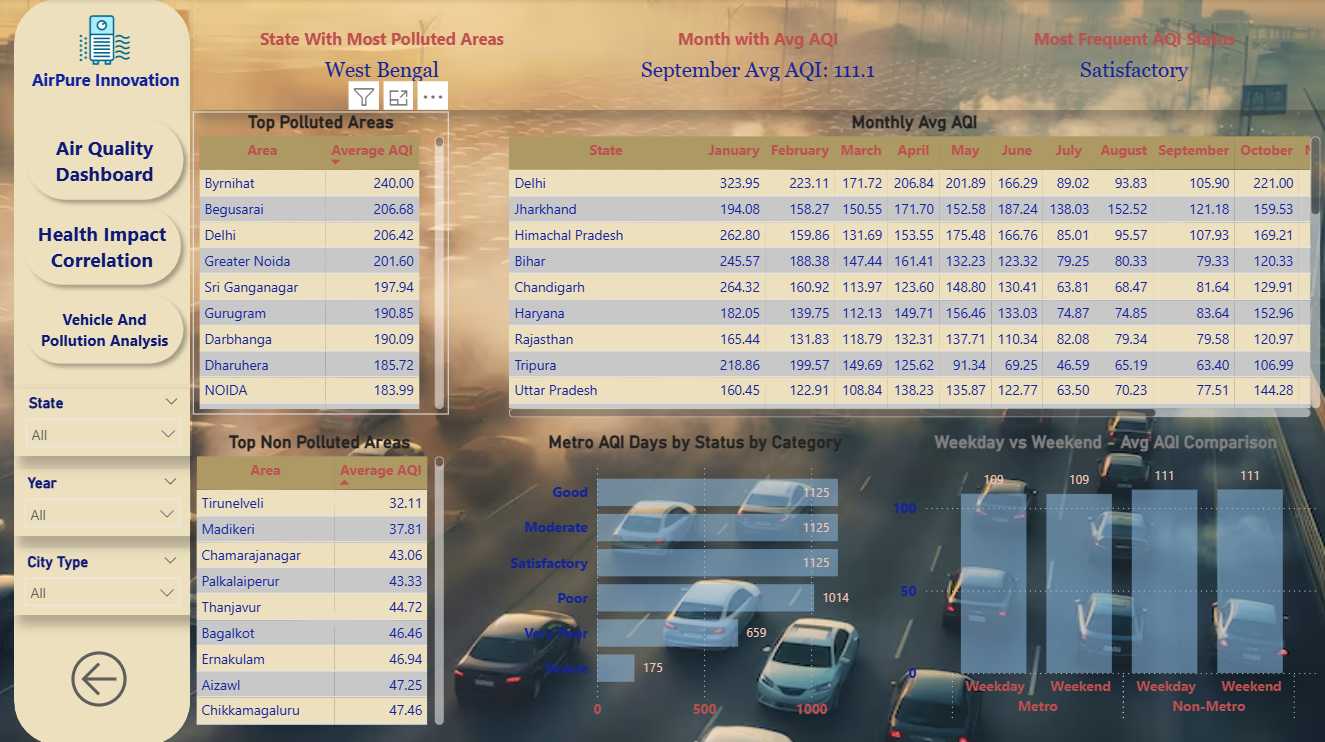

This screenshot's page, from the dashboard's own definition file:
{"tool":"powerbi","page":{"name":"Severity Mapping","canvas":[1280,720],"ordinal":2},"visuals":[{"type":"shape","box":[14.5,0,170.1,720.2],"z":0},{"type":"image","box":[66.4,0,71.2,79.6],"z":1000},{"type":"textbox","box":[26.5,61.5,170.1,45.8],"z":2000},{"type":"shape","box":[16.9,107.4,170.1,95.3],"z":3000},{"type":"shape","box":[14.5,191.8,170.1,92.9],"z":4000},{"type":"shape","box":[16.9,277.5,170.1,83.2],"z":5000},{"type":"slicer","fields":{"Values":["aqi.year"]},"box":[14.5,453.6,170.1,65.1],"z":6000},{"type":"slicer","fields":{"Values":["aqi.city type"]},"box":[14.5,529.6,170.1,65.1],"z":7000},{"type":"slicer","fields":{"Values":["aqi.state"]},"box":[15.7,376.4,170.1,65.1],"z":8000},{"type":"cardVisual","fields":{"Data":["Key Measures.State With Most Polluted Areas","Key Measures.Month with Highest Avg AQI","Key Measures.Most Frequent AQI Status"]},"box":[187,0,1093,107.4],"z":9000},{"type":"tableEx","title":"Top Polluted Areas","fields":{"Values":["aqi.Area","Key Measures.Average AQI"]},"box":[187,108.6,247.3,292],"z":10000},{"type":"tableEx","title":"Top Non Polluted Areas","fields":{"Values":["aqi.Area","Key Measures.Average AQI"]},"box":[184.6,417.4,249.7,288.3],"z":11000},{"type":"pivotTable","title":"Monthly Avg AQI","fields":{"Rows":["aqi.State"],"Columns":["aqi.month"],"Values":["Key Measures.Average AQI"]},"box":[487.4,108.6,792.6,300.4],"z":12000},{"type":"barChart","fields":{"Category":["AQI_Status_Category.Category"],"Y":["Key Measures.Metro AQI Days by Status"]},"box":[487.4,417.4,369.2,287.1],"z":13000},{"type":"columnChart","title":"Weekday vs Weekend - Avg AQI Comparison ","fields":{"Category":["aqi.city type","aqi.day type"],"Y":["Key Measures.Metro Weekend vs Weekday AQI"]},"box":[856.6,417.4,423.5,288.3],"z":14000},{"type":"actionButton","box":[62.7,622.5,76,67.6],"z":15000}]}

Visuals, with their boxes on the page's 1280x720 design canvas (x1, y1, x2, y2). These are canvas units, not pixel positions in the 1325x742 screenshot, which may show the page scaled, cropped or inside an application window:
shape: detection(14, 0, 185, 720)
image: detection(66, 0, 138, 80)
textbox: detection(26, 62, 197, 107)
shape: detection(17, 107, 187, 203)
shape: detection(14, 192, 185, 285)
shape: detection(17, 278, 187, 361)
slicer - aqi.year: detection(14, 454, 185, 519)
slicer - aqi.city type: detection(14, 530, 185, 595)
slicer - aqi.state: detection(16, 376, 186, 442)
cardVisual - Key Measures.State With Most Polluted Areas x Key Measures.Month with Highest Avg AQI: detection(187, 0, 1280, 107)
"Top Polluted Areas" tableEx: detection(187, 109, 434, 401)
"Top Non Polluted Areas" tableEx: detection(185, 417, 434, 706)
"Monthly Avg AQI" pivotTable: detection(487, 109, 1280, 409)
barChart - AQI_Status_Category.Category x Key Measures.Metro AQI Days by Status: detection(487, 417, 857, 704)
"Weekday vs Weekend - Avg AQI Comparison " columnChart: detection(857, 417, 1280, 706)
actionButton: detection(63, 622, 139, 690)
